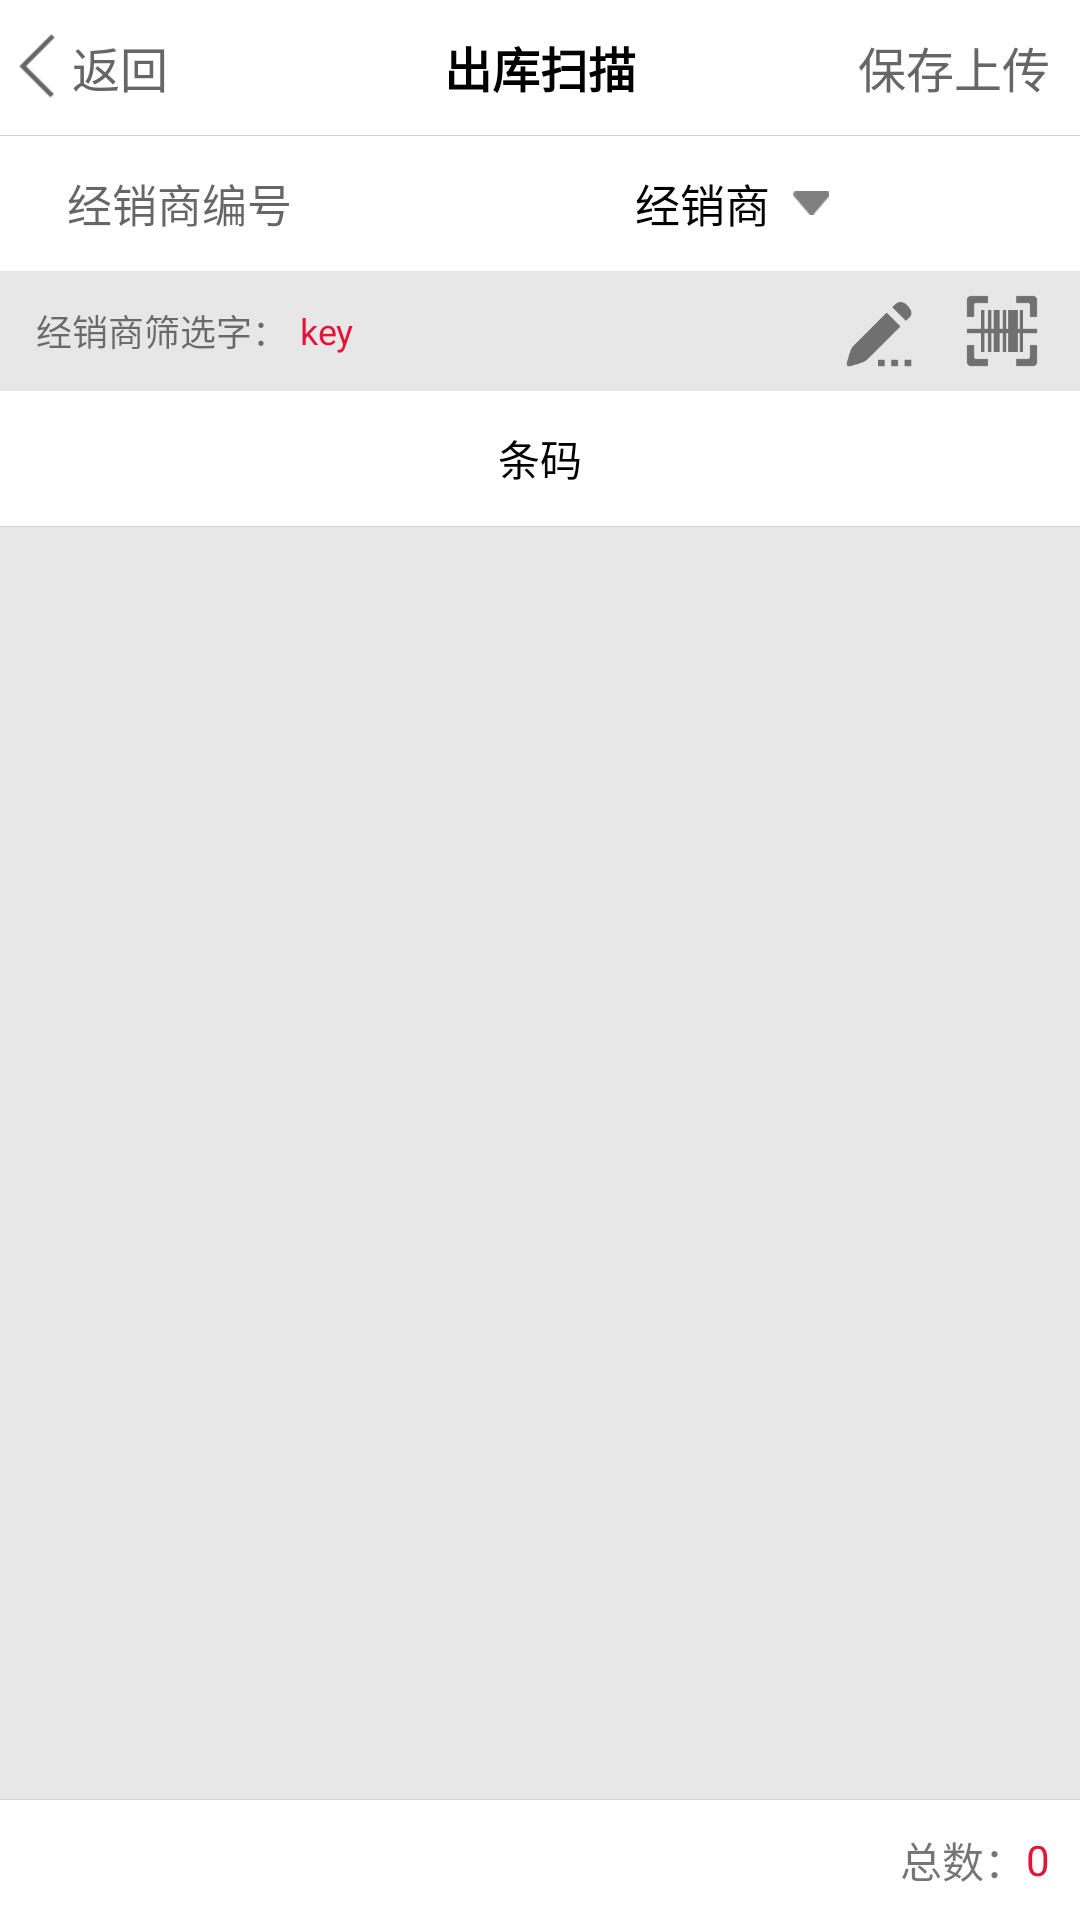

Screen size 1080px x 1920px. Icon name, then its center in pixels as (x=x, y=y):
manually enter: (x=879, y=334)
pull down: (x=811, y=203)
scan code: (x=1002, y=331)
